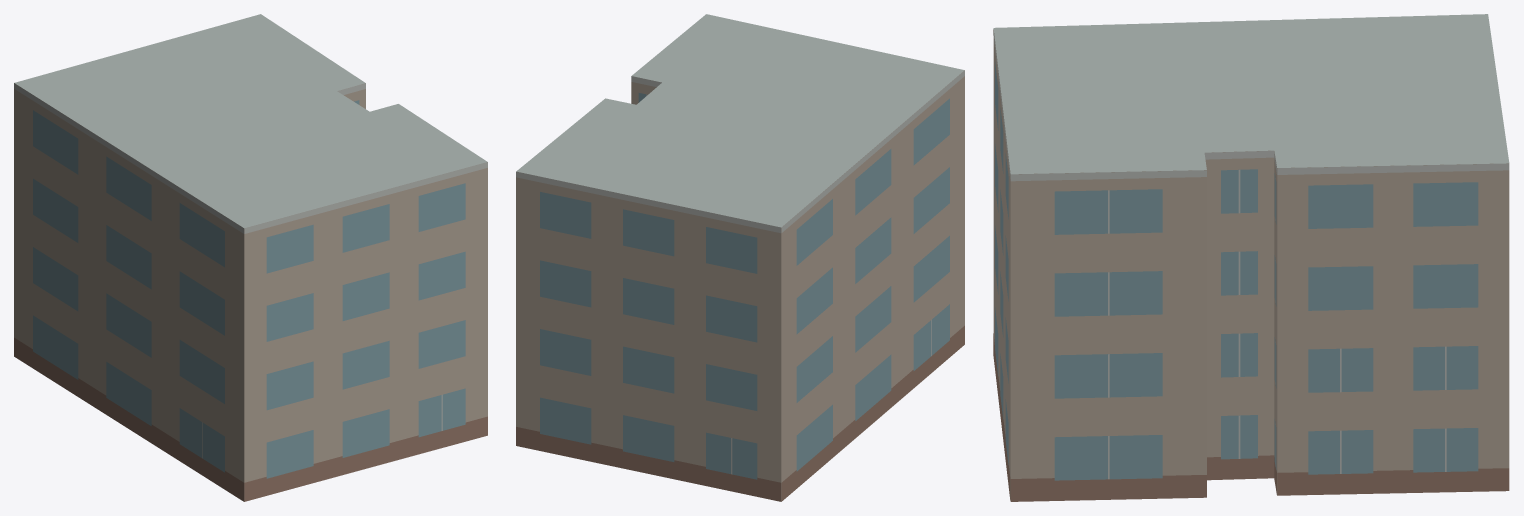
Rendered from survey-upis-32744847.glb.
3 renders of one model, left to right at view 1: azimuth 30°, elevation 25°; view 2: azimuth 150°, elevation 25°; view 3: azimuth 270°, elevation 25°, orthographic. The views are drawn at different scales.
Parts seen in each view (by area): view 1: survey-upis-32744847.tmp; view 2: survey-upis-32744847.tmp; view 3: survey-upis-32744847.tmp.
Part boxes in pixels (<box>): survey-upis-32744847.tmp: <box>14,14,487,501</box>; survey-upis-32744847.tmp: <box>516,14,964,501</box>; survey-upis-32744847.tmp: <box>993,14,1509,501</box>.
Bounding box in the file's own units: 12.05 × 11.47 × 16.38.
